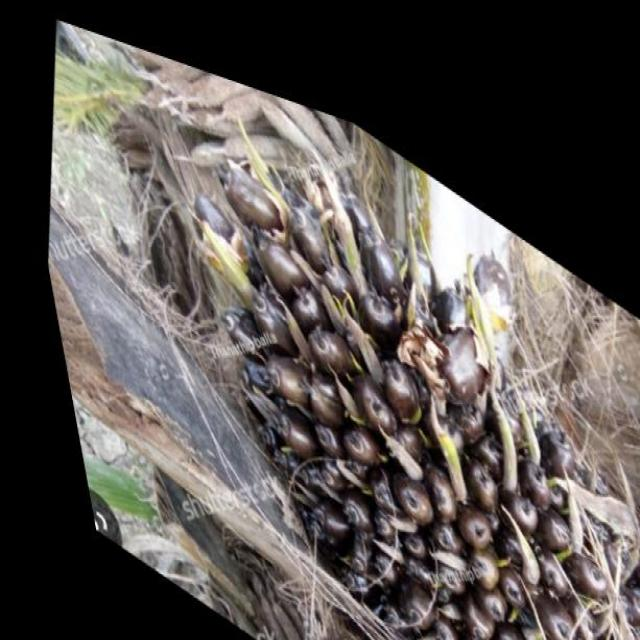Unripe: (84, 24, 640, 640)
